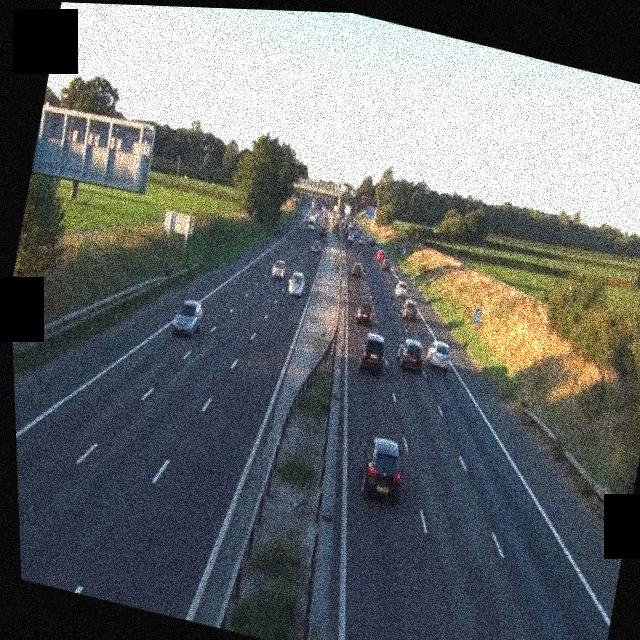car: (357, 433, 410, 504), (170, 295, 205, 340), (356, 330, 389, 375), (395, 335, 427, 372), (423, 337, 454, 372), (354, 299, 376, 326), (287, 270, 308, 298), (399, 296, 420, 322), (269, 259, 288, 280), (391, 278, 409, 300), (350, 260, 364, 280), (309, 237, 322, 255), (378, 254, 390, 270), (317, 222, 329, 237), (344, 229, 355, 245), (373, 244, 385, 258)
